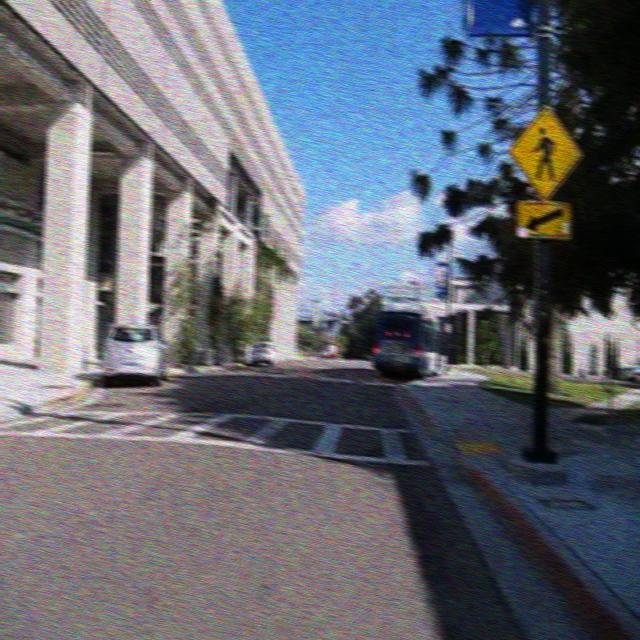pedestrianCrossing: (508, 103, 582, 201)
